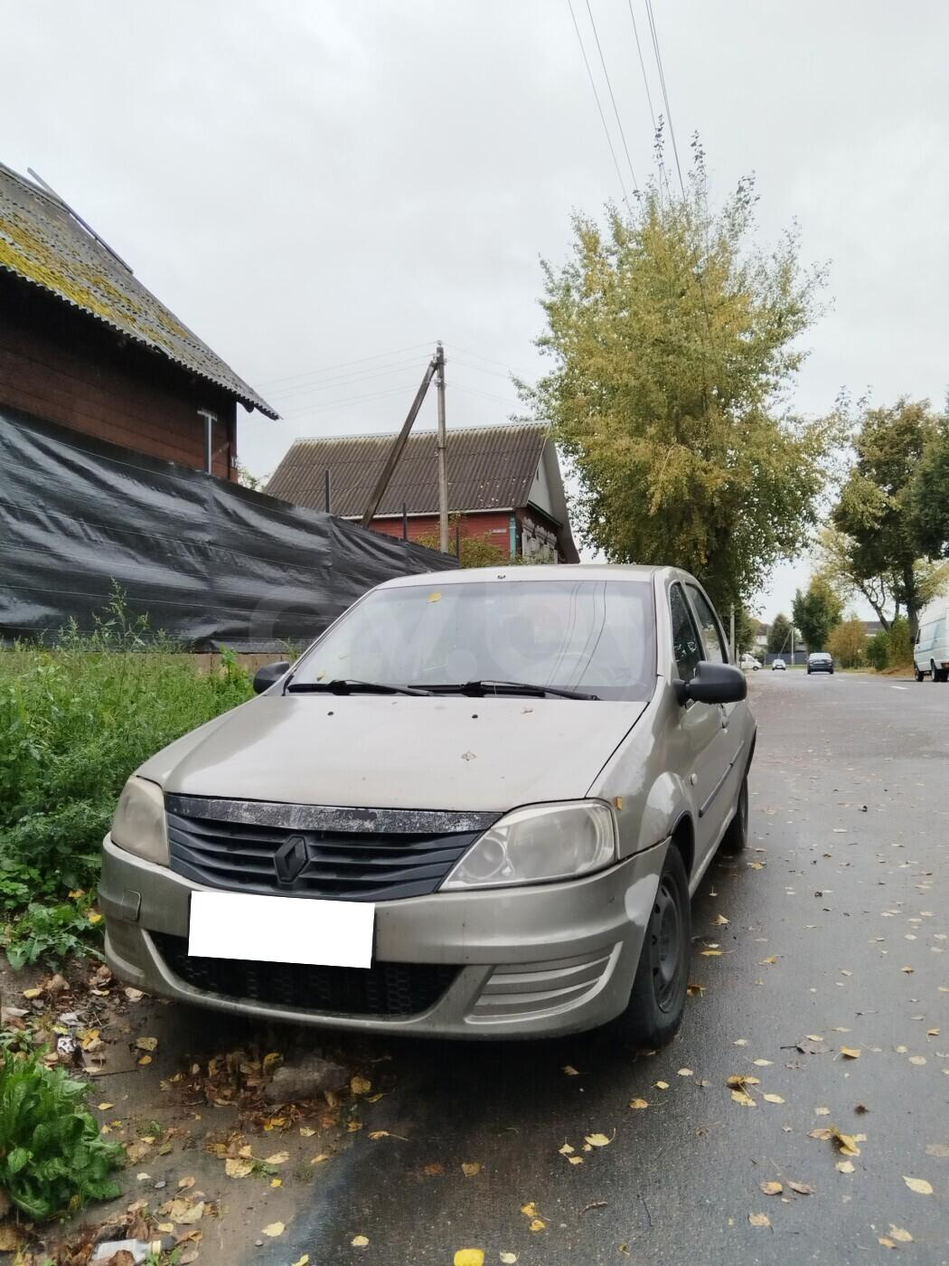Logan_2008-2015: (98, 557, 770, 1071)
